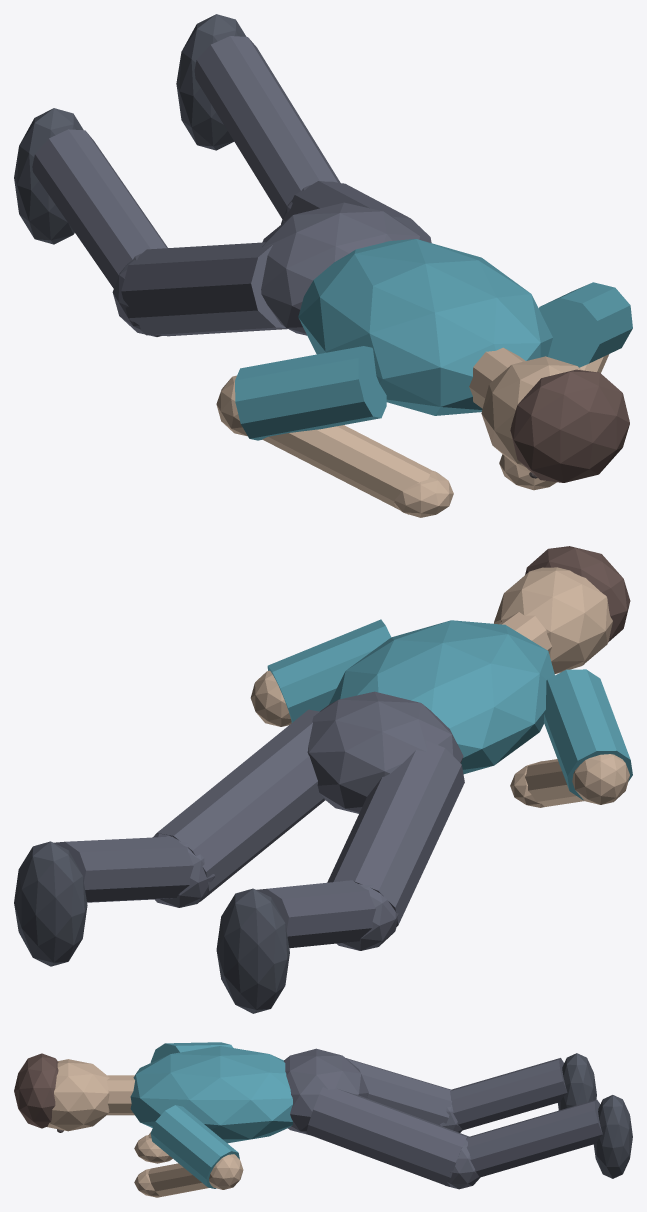
3 views of the same model, one above another, from view 1: azimuth 30°, elevation 25°; view 2: azimuth 150°, elevation 25°; view 3: azimuth 270°, elevation 25° (orthographic). The views are drawn at different scales.
Parts seen in each view (by area): view 1: world; view 2: world; view 3: world.
Part boxes in pixels (x1,y1,x2,y2): world: [14, 14, 632, 517]; world: [14, 546, 632, 1013]; world: [14, 1042, 632, 1197].
Bounding box in the file's own units: 0.93 × 0.435 × 2.
